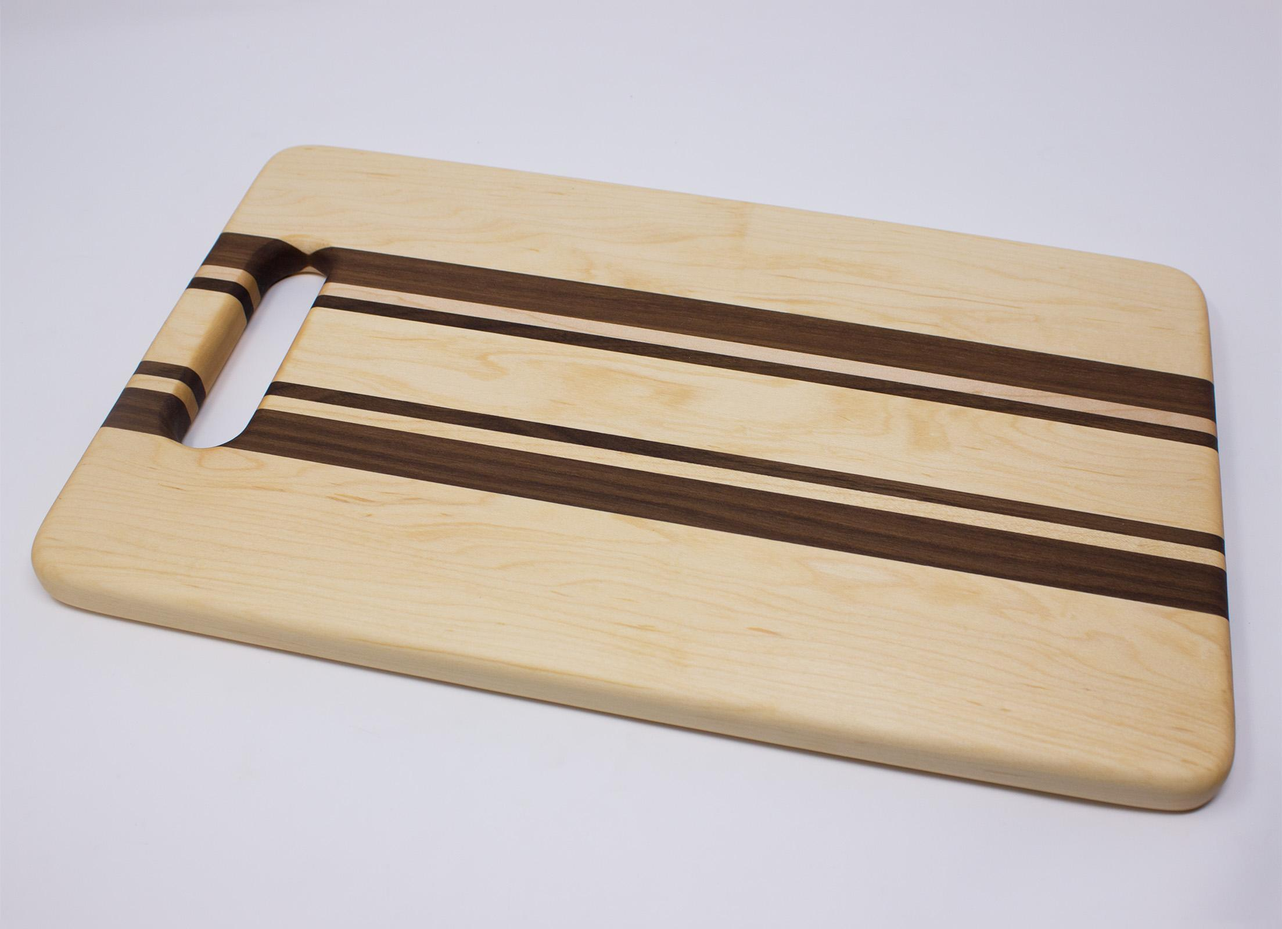gloved_hand: (26, 130, 1253, 825)
